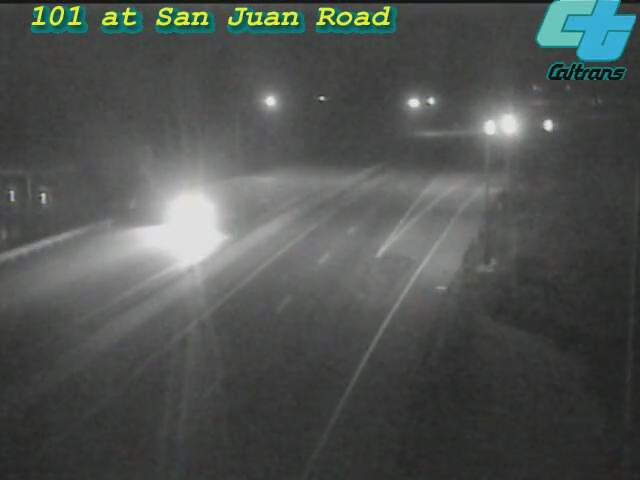vehicle: (158, 168, 238, 248), (522, 102, 572, 152), (465, 102, 515, 152), (483, 100, 533, 150)
